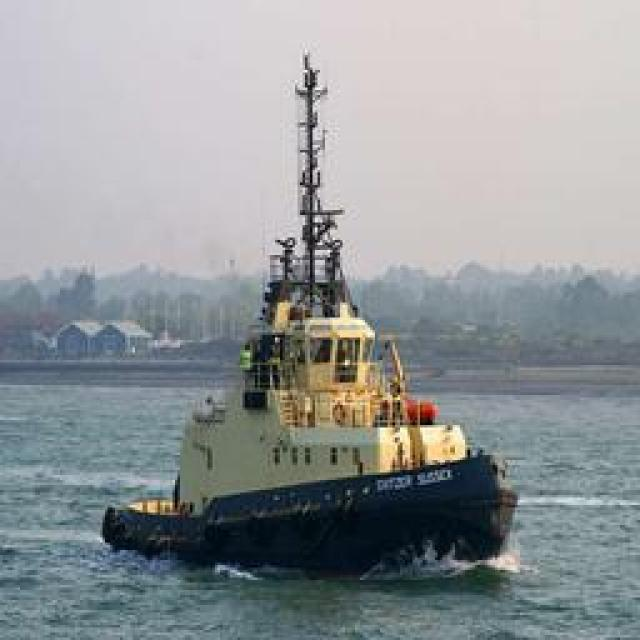CIV_Ship: (109, 39, 509, 576)
